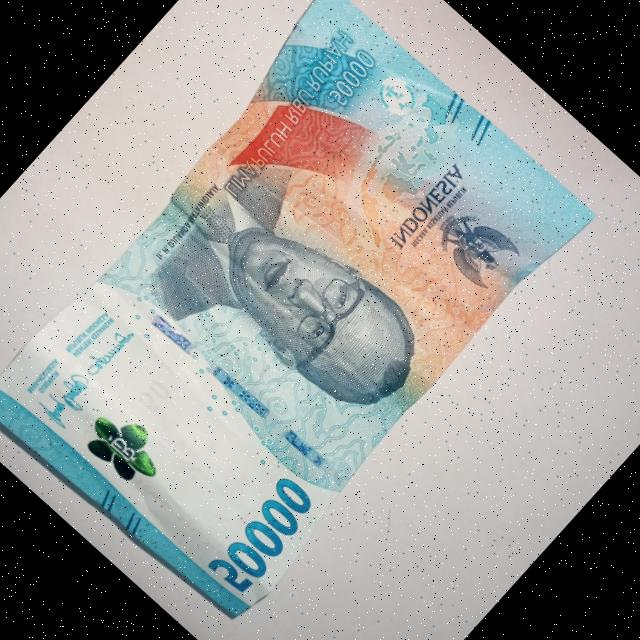50K: (0, 0, 617, 640)
